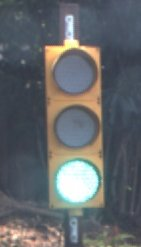Green: (34, 37, 125, 224)
